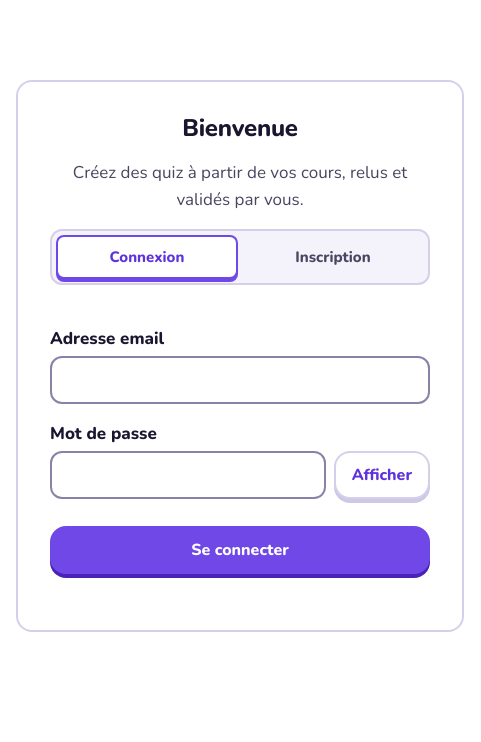
Scenario: PageConnexion › l’onglet Inscription mène à la page d’inscription
The width and height of the screenshot is (481, 742).
What coordinates should you click on to do the following:
click the link "Inscription"
I would click on:
 (333, 257)
Its box is [242, 235, 424, 279].
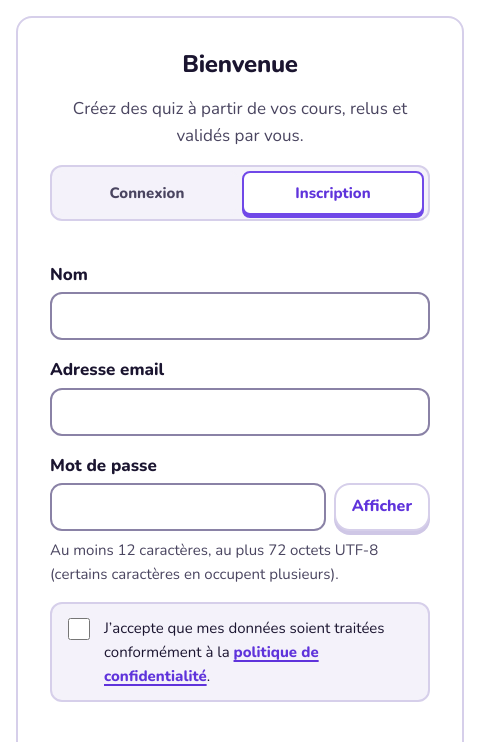
Expected: the field labelled "Nom" is shown, [50, 292, 430, 340]
